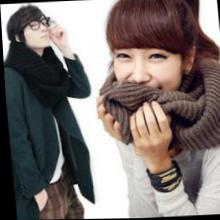NONE: (21, 16, 52, 49)
WRONG: (105, 41, 188, 121)
